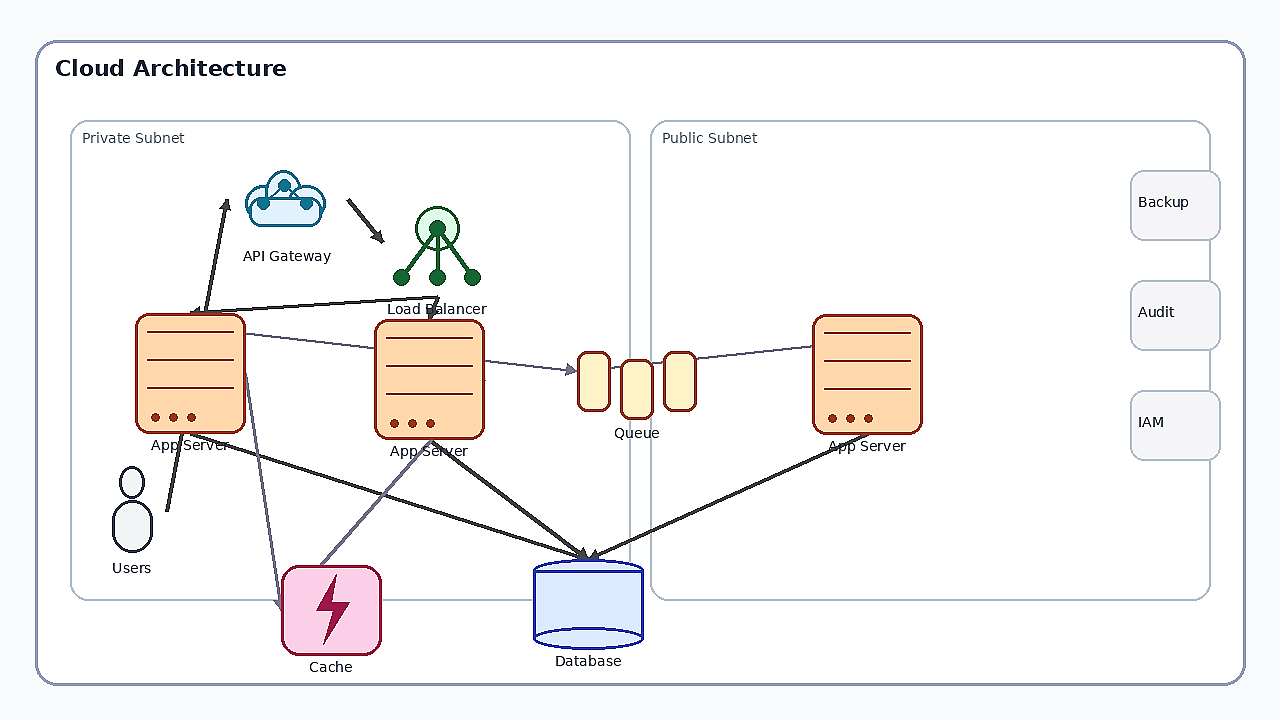API Gateway: (227, 154, 347, 244)
Application Server: (812, 314, 922, 434), (135, 313, 245, 433), (374, 319, 484, 439)
Cache: (281, 565, 381, 655)
Database: (533, 559, 643, 649)
Load Balancer: (382, 187, 492, 297)
Message Queue: (577, 351, 697, 421)
User: (97, 466, 167, 556)
